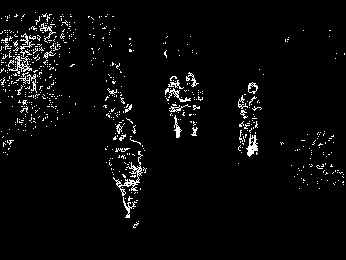person: (105, 119, 149, 225), (229, 81, 266, 162), (182, 70, 209, 144), (161, 75, 183, 141)
